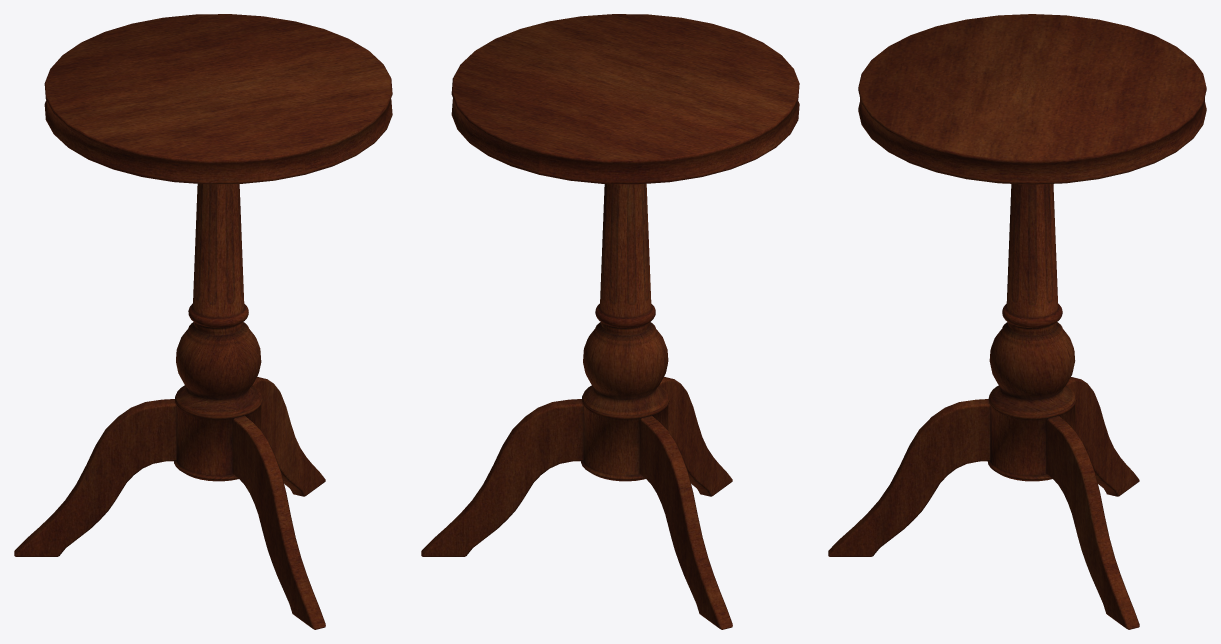
Rendered from oak_coffee_table.glb.
3 views of the same model, side by side, from view 1: azimuth 30°, elevation 25°; view 2: azimuth 150°, elevation 25°; view 3: azimuth 270°, elevation 25° (orthographic).
Parts seen in each view (by area): view 1: Coffee table; view 2: Coffee table; view 3: Coffee table.
Boxes of the visible parts, x1,y1,x2,y2 form: Coffee table: [14, 14, 392, 629]; Coffee table: [421, 14, 799, 629]; Coffee table: [828, 14, 1206, 629].
Bounding box in the file's own units: 0.5659 × 0.8122 × 0.5959.
1 material, 1 textured.
